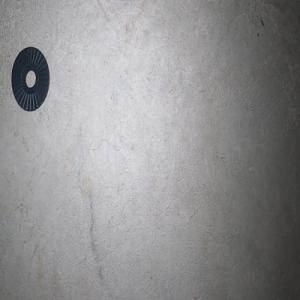Washer: (11, 46, 49, 111)
